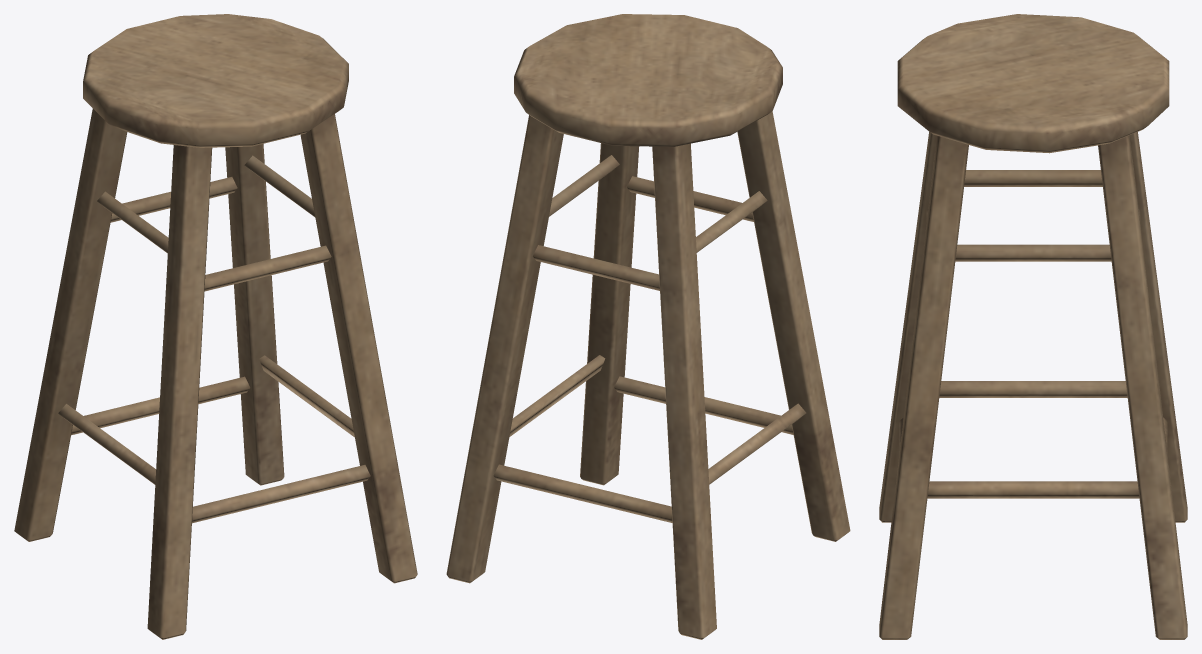
Rendered from WoodenStool.fbx.
3 renders of one model, left to right at view 1: azimuth 30°, elevation 25°; view 2: azimuth 150°, elevation 25°; view 3: azimuth 270°, elevation 25°, orthographic. The views are drawn at different scales.
Visible parts, largest first — view 1: WoodenStool; view 2: WoodenStool; view 3: WoodenStool.
Boxes of the visible parts, x1,y1,x2,y2 form: WoodenStool: (14,14,417,639); WoodenStool: (446,14,850,639); WoodenStool: (879,14,1187,639).
Size of the model in its own units: 32.36 by 58.38 by 32.27.
1 material, 1 textured.
